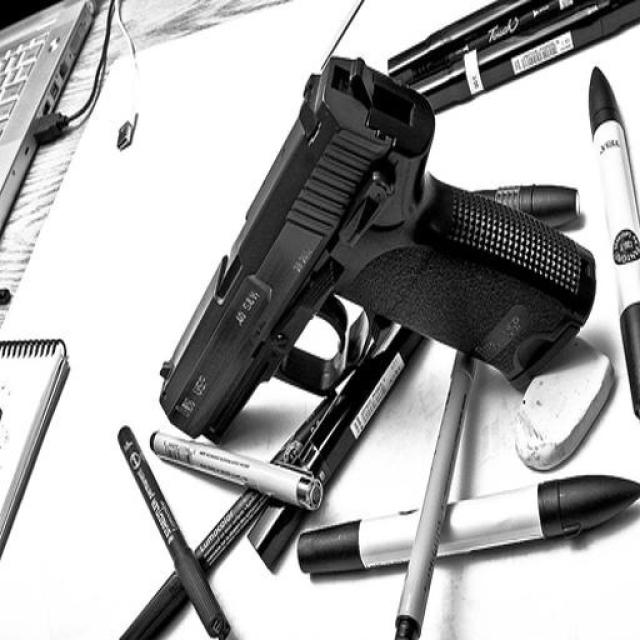pistol: (154, 51, 596, 446)
